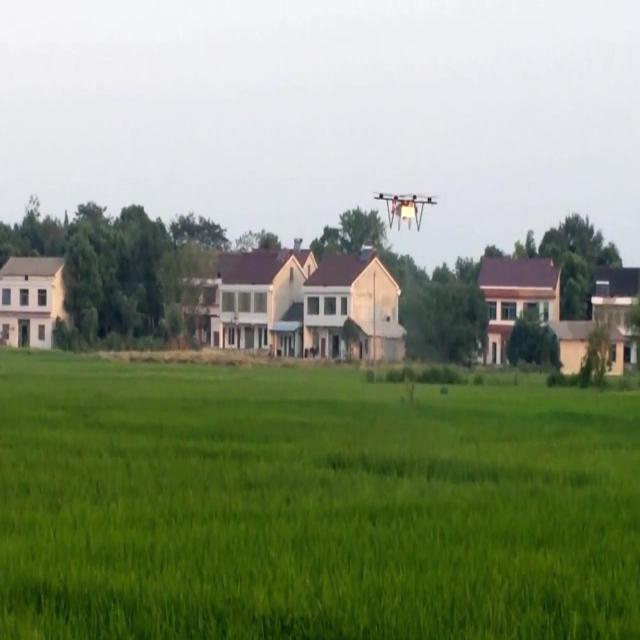drone: (373, 190, 439, 232)
